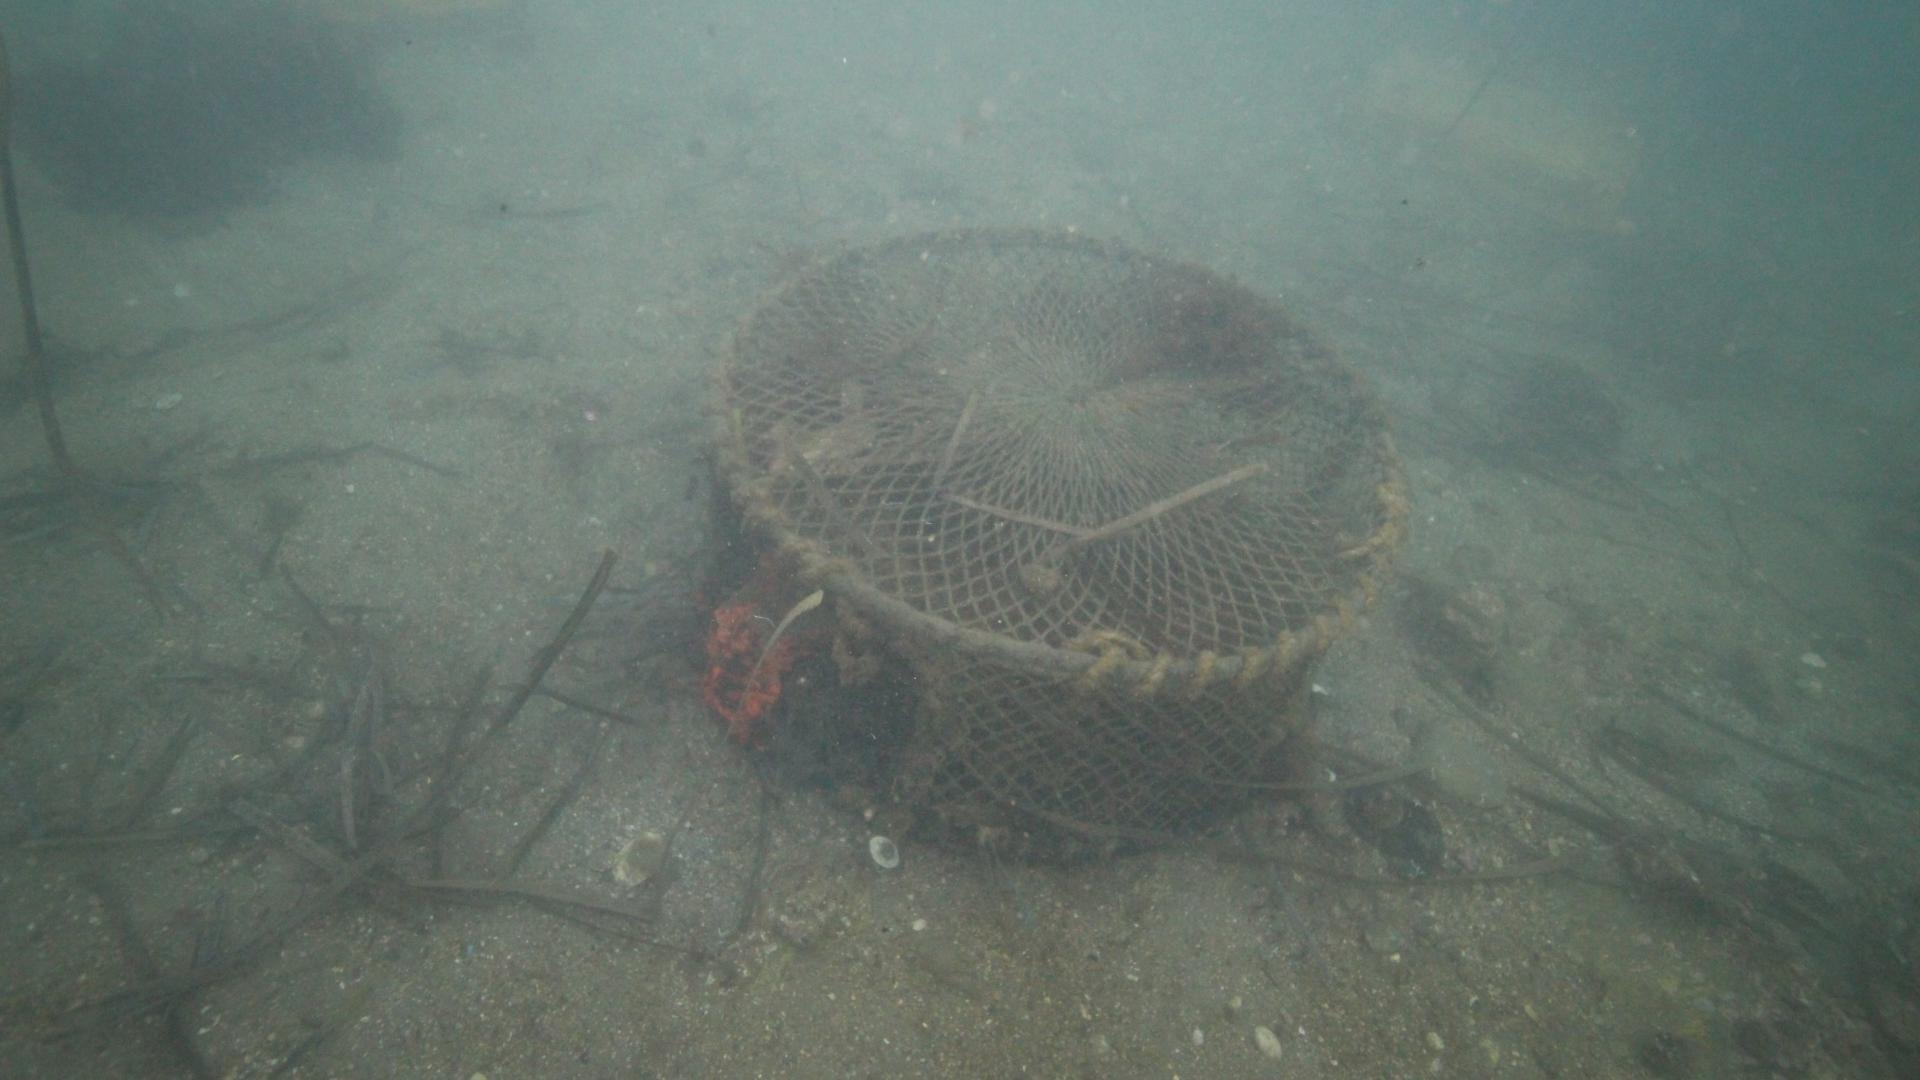circular fish trap: (696, 220, 1408, 865)
